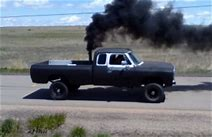smoke: (84, 1, 212, 49)
